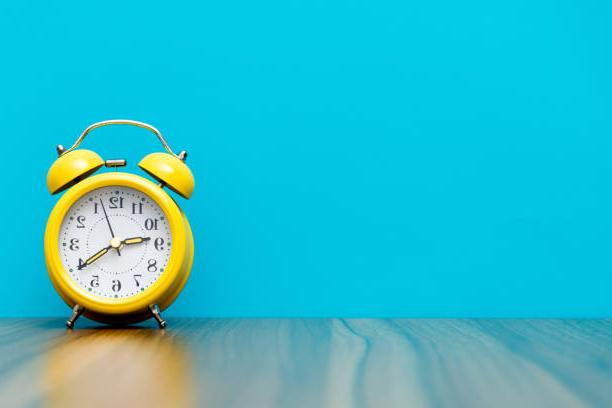clock: (47, 170, 193, 326)
